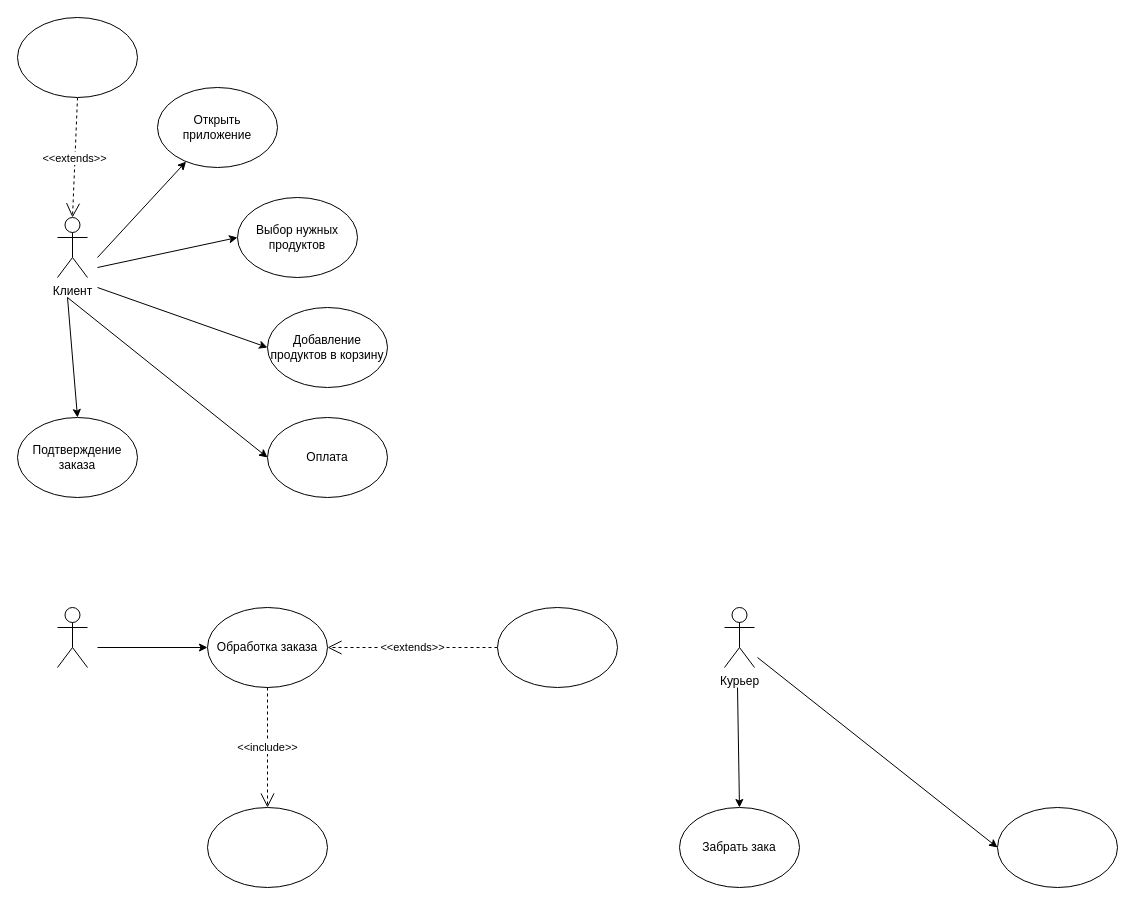
The diagram is 1135 pixels wide and 905 high, and some of its shapes have lost their labels. Here are the shapes that lost their labels. From the top down, the box of each, then its label:
(16, 16, 138, 98): Отмена заказа
(56, 606, 88, 668): Доставка
(496, 606, 618, 688): Оповещение курьера
(206, 806, 328, 888): Сбор заказа
(996, 806, 1118, 888): Доставка клиену
